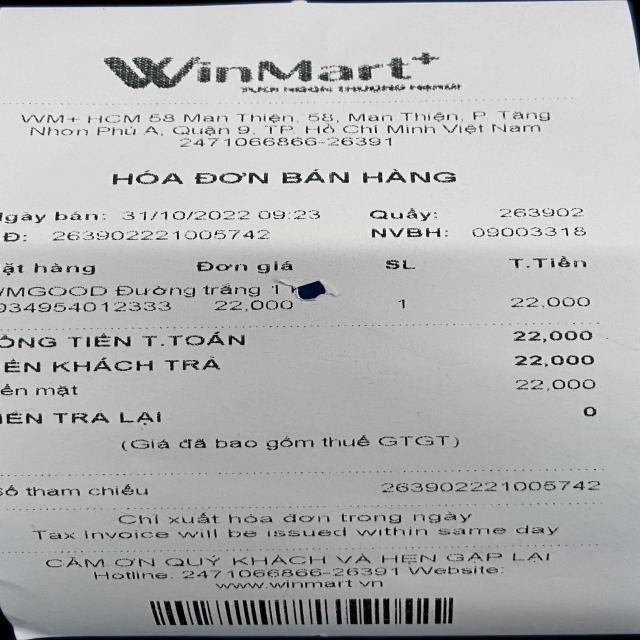Date: (116, 207, 258, 226)
Store_Name: (73, 46, 484, 96)
amount_number: (494, 324, 620, 352)
label_total: (0, 330, 252, 354)
